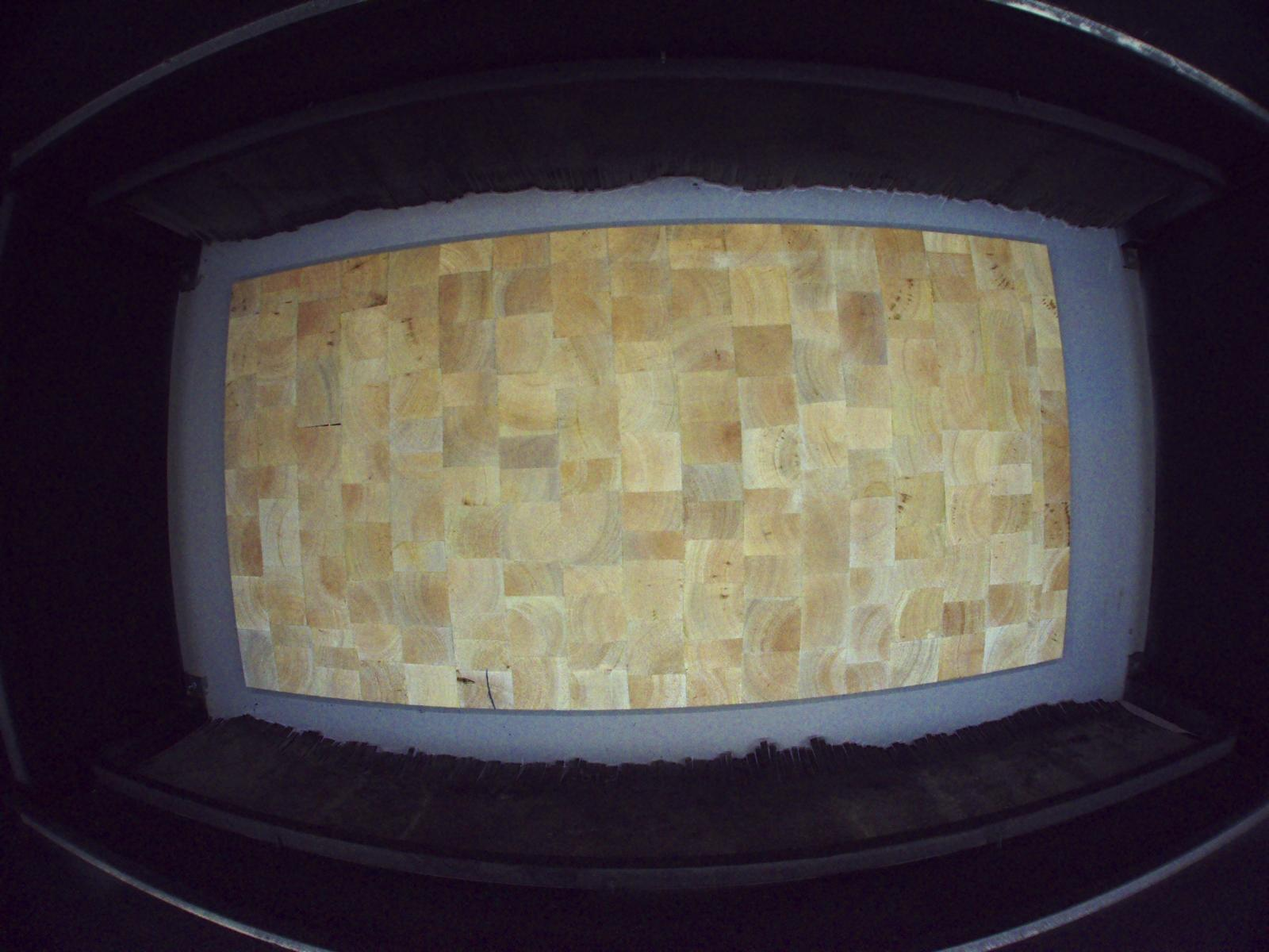nudillo: (455, 675, 477, 686)
